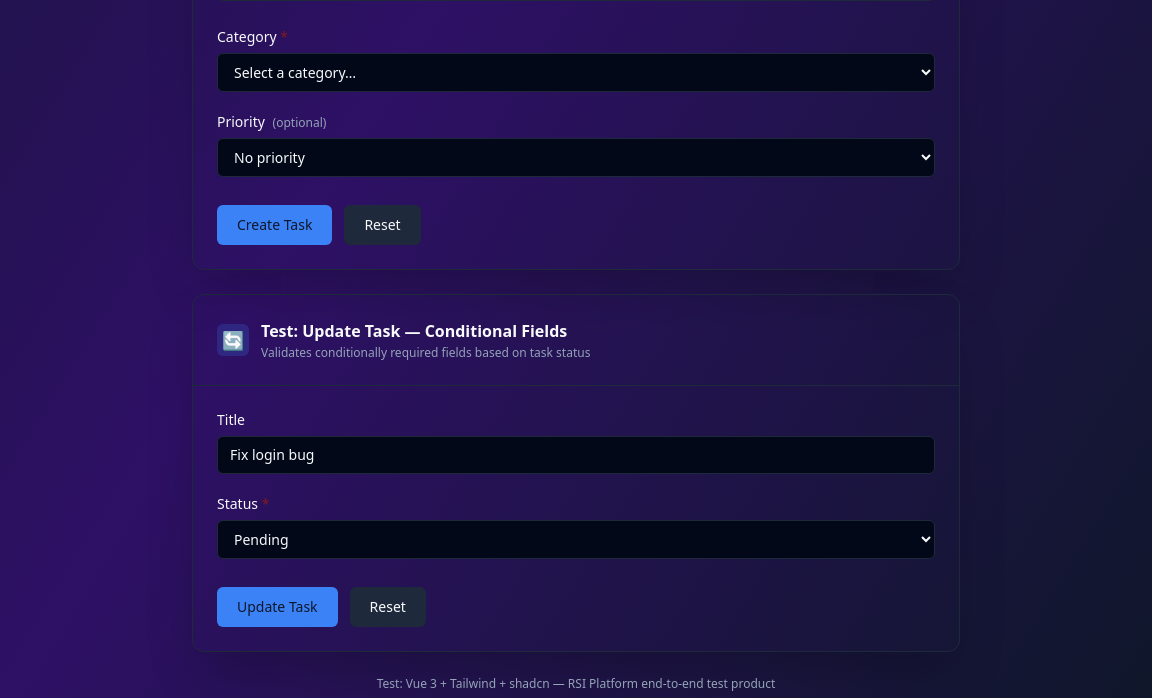
Test case: Update Task — Conditional Fields › clears blocked reason error when reason is filled in
(page scrolled)
Select "Blocked" in the dropdown with id "update-status": (576, 540) [217,520,935,559]
(page scrolled)
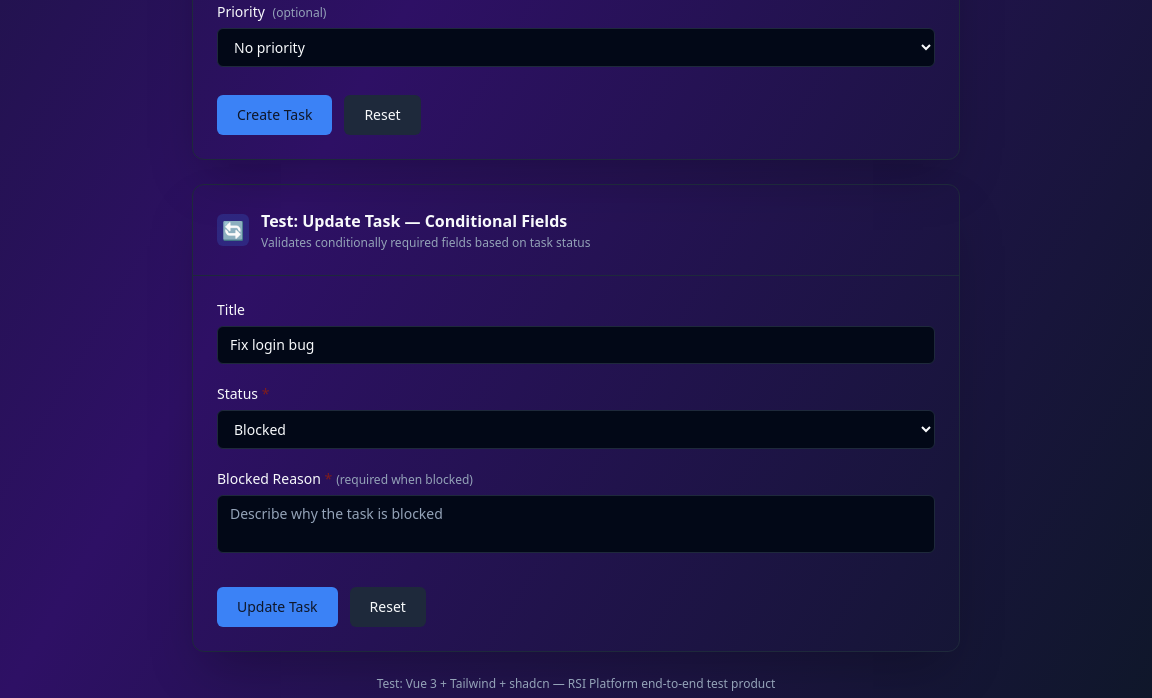
Submit the form with id "update-form", box [217,300,935,627]
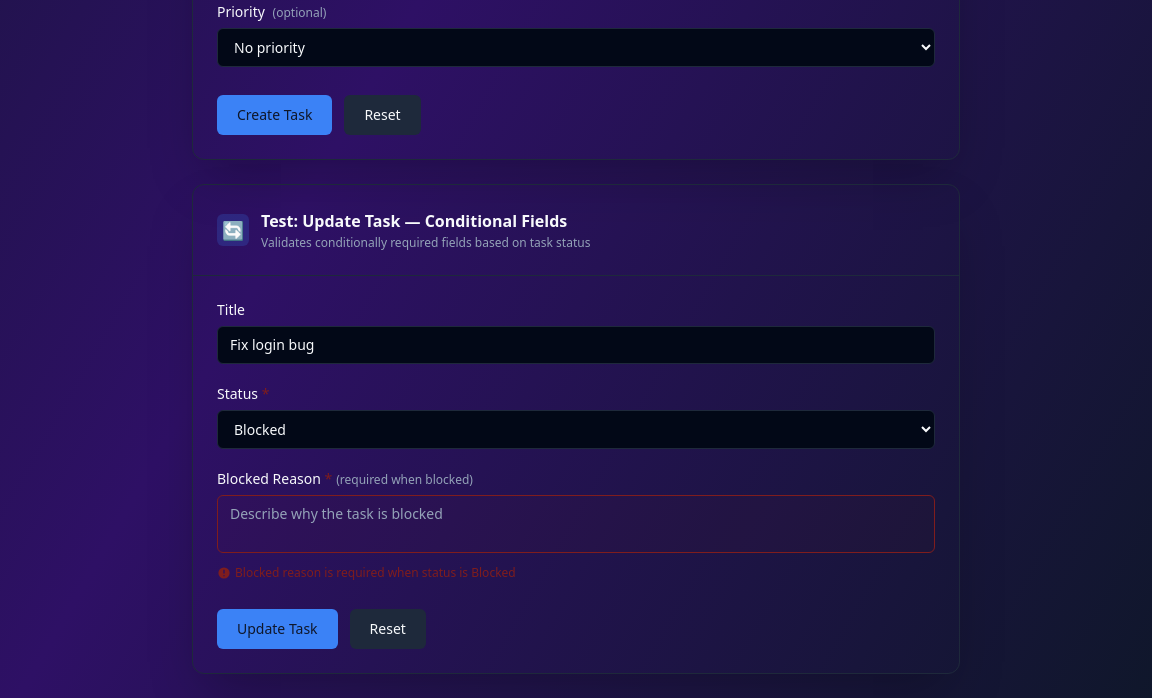
Check: the text "Blocked reason is required" is shown, box [235,564,516,581]
In the text box with id "update-blocked-reason": (576, 524) [217,495,935,553], type "Waiting for API keys"
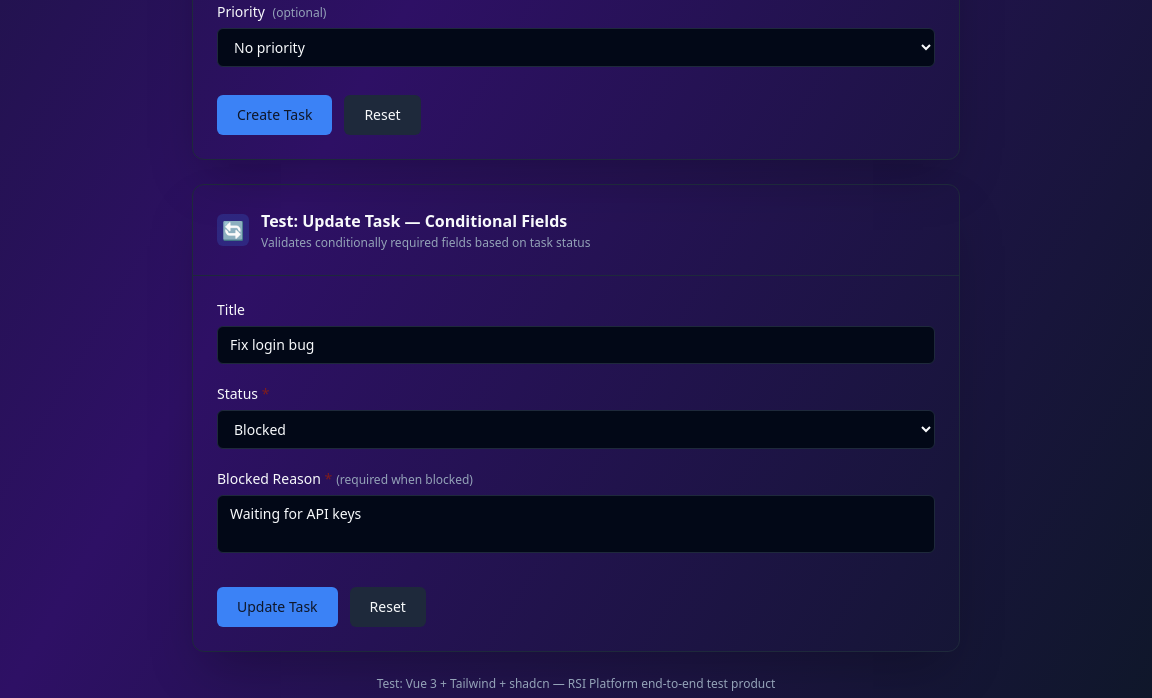
Check: the text "Blocked reason is required" is gone
